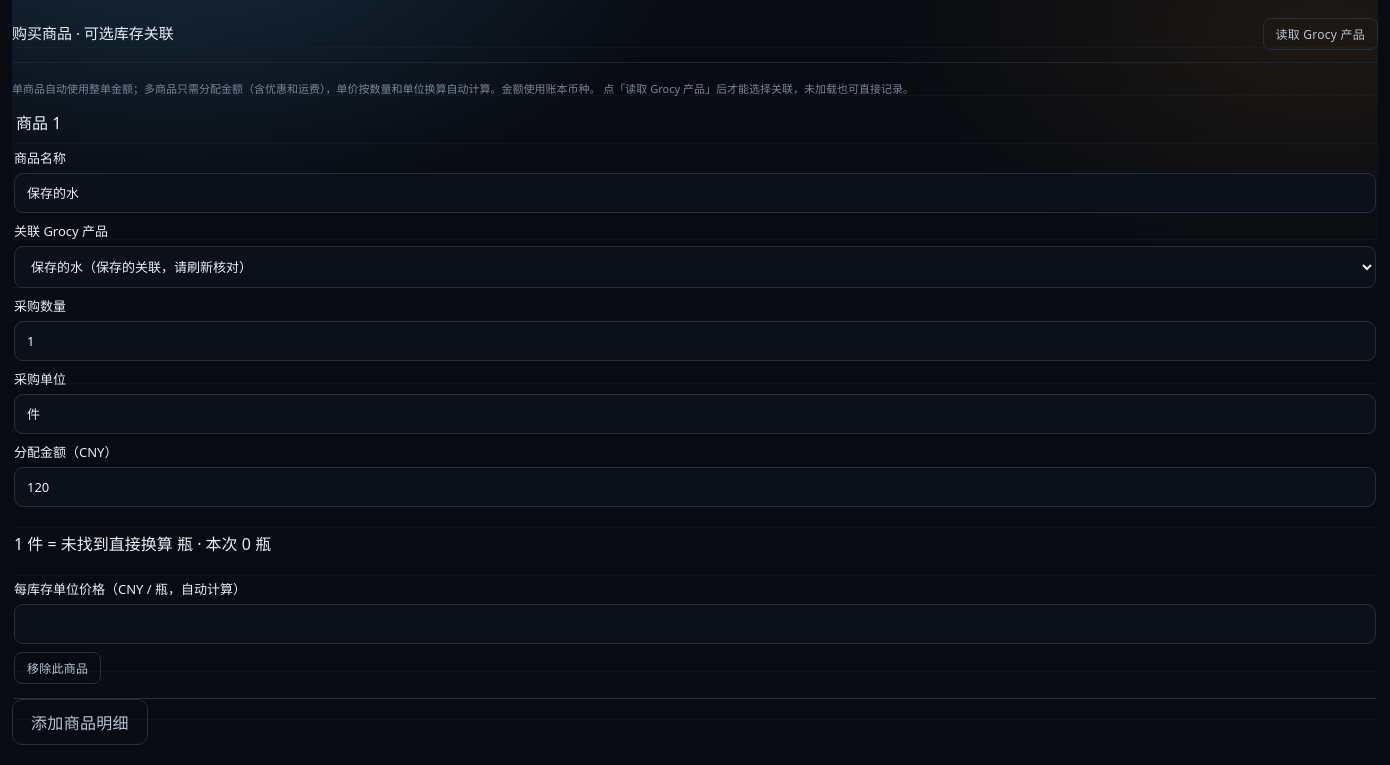
Test: 断连仍可取消关联并编辑普通商品
Click the button "读取 Grocy 产品" at (1320, 34), box [1262,18,1378,50]
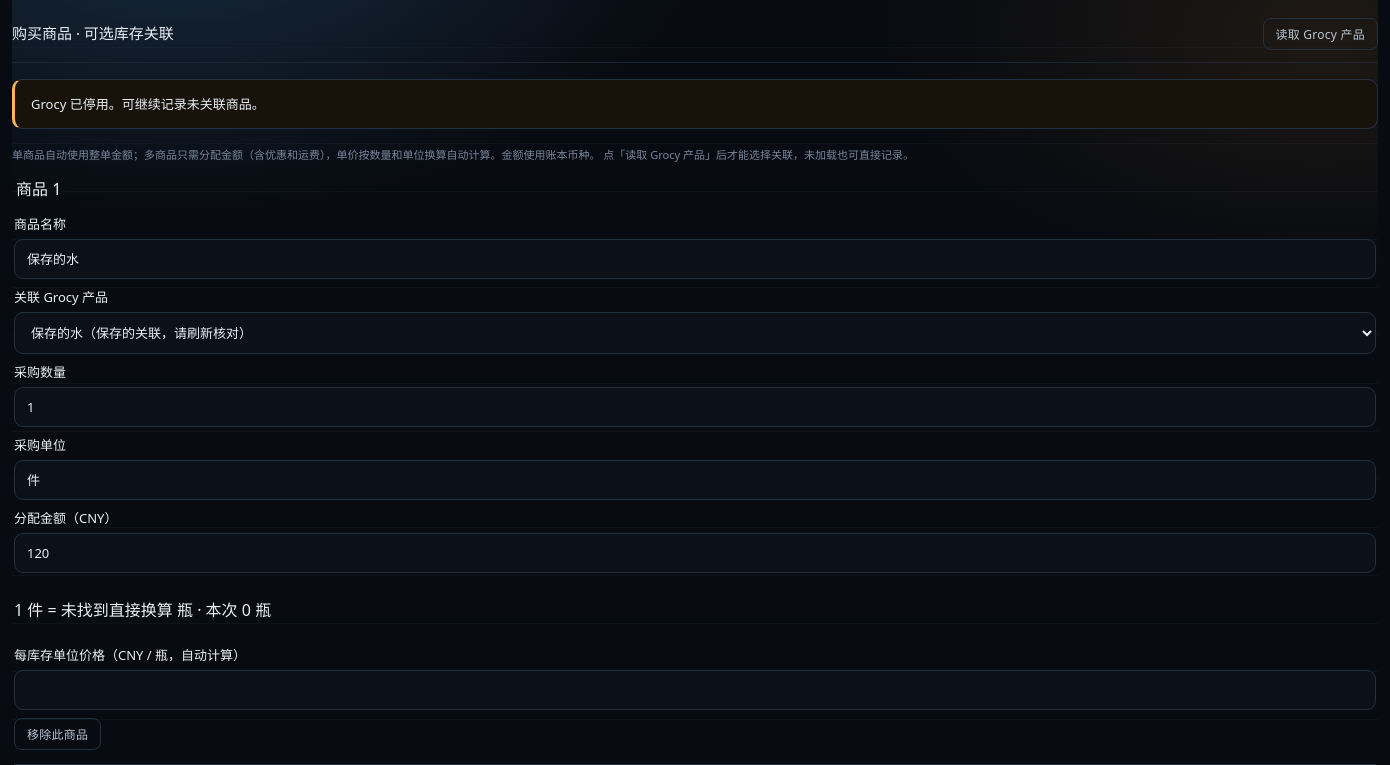
Now the text "Grocy 已停用。可继续记录未关联商品。" is shown, box [31,93,265,115]
Select "不关联" in the dropdown labelled "关联 Grocy 产品" at (695, 333), box [14,312,1376,354]
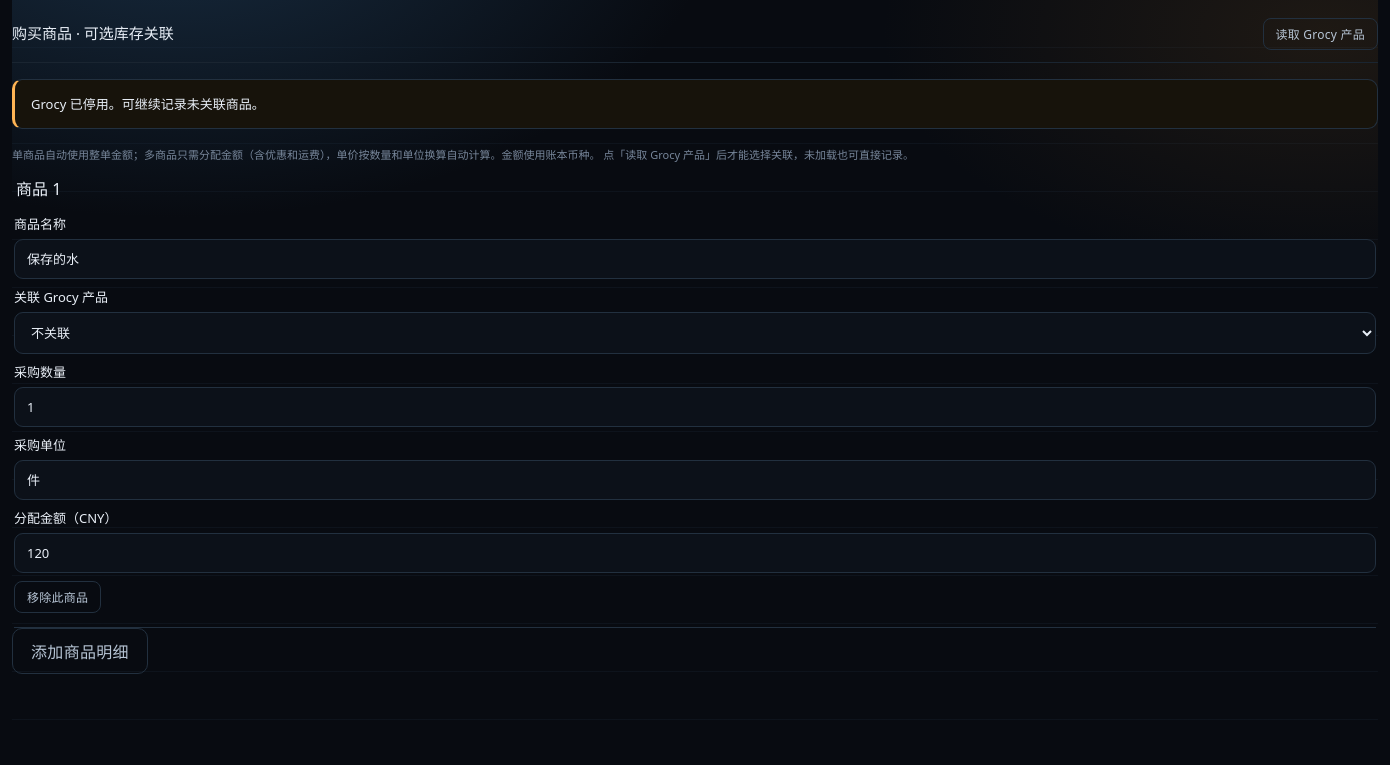
Replace the text in the field labelled "商品名称" with "普通商品" at (695, 259), box [14,239,1376,279]
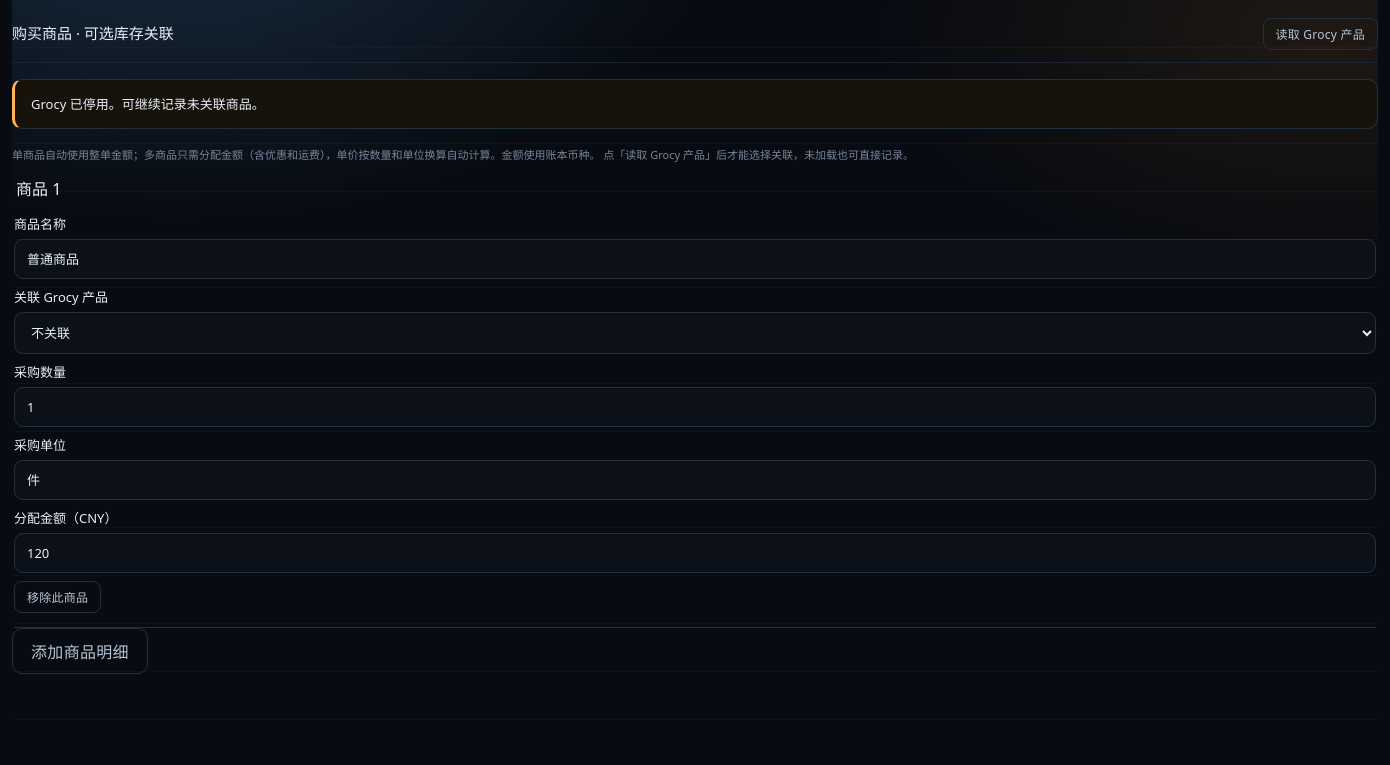
Replace the text in the field labelled "采购单位" with "袋" at (695, 480), box [14,460,1376,500]
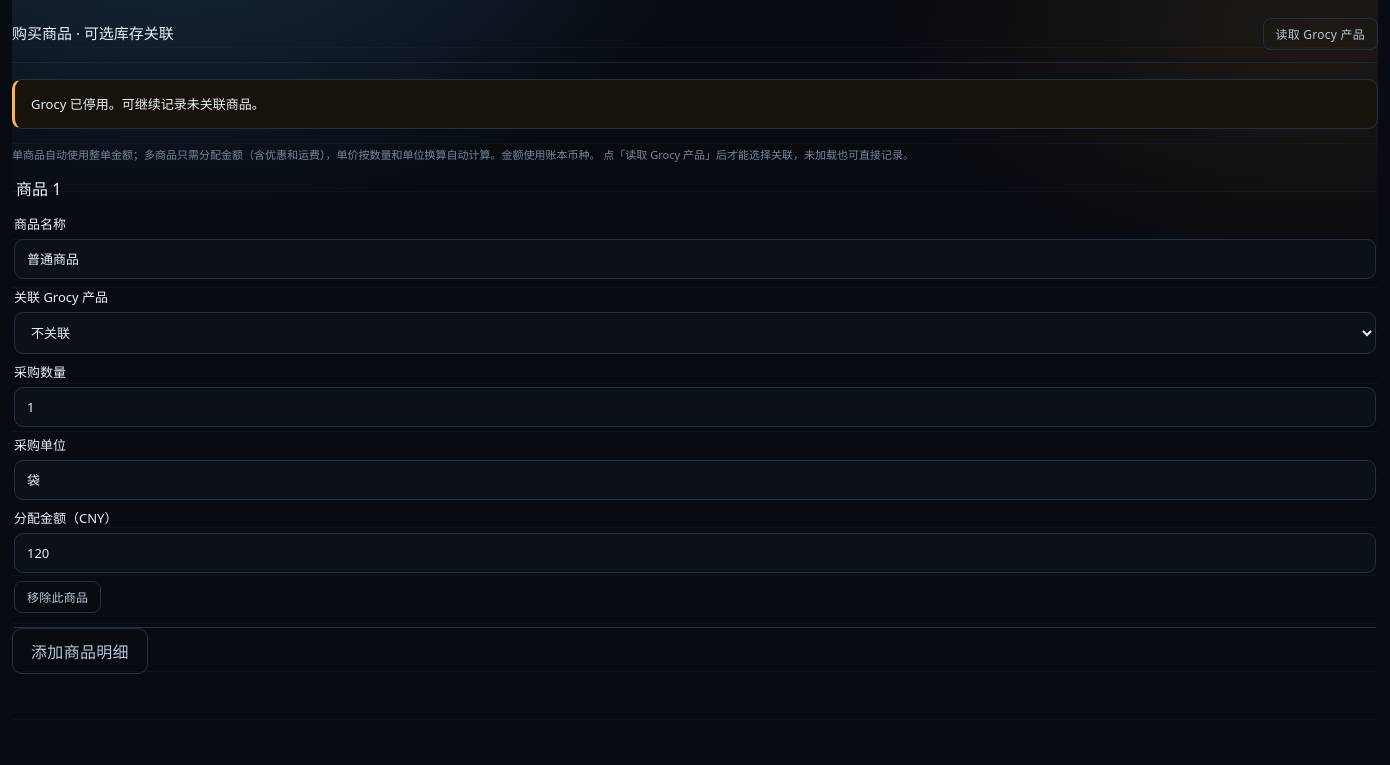
Click the button "移除此商品" at (58, 597), box [14,581,101,613]
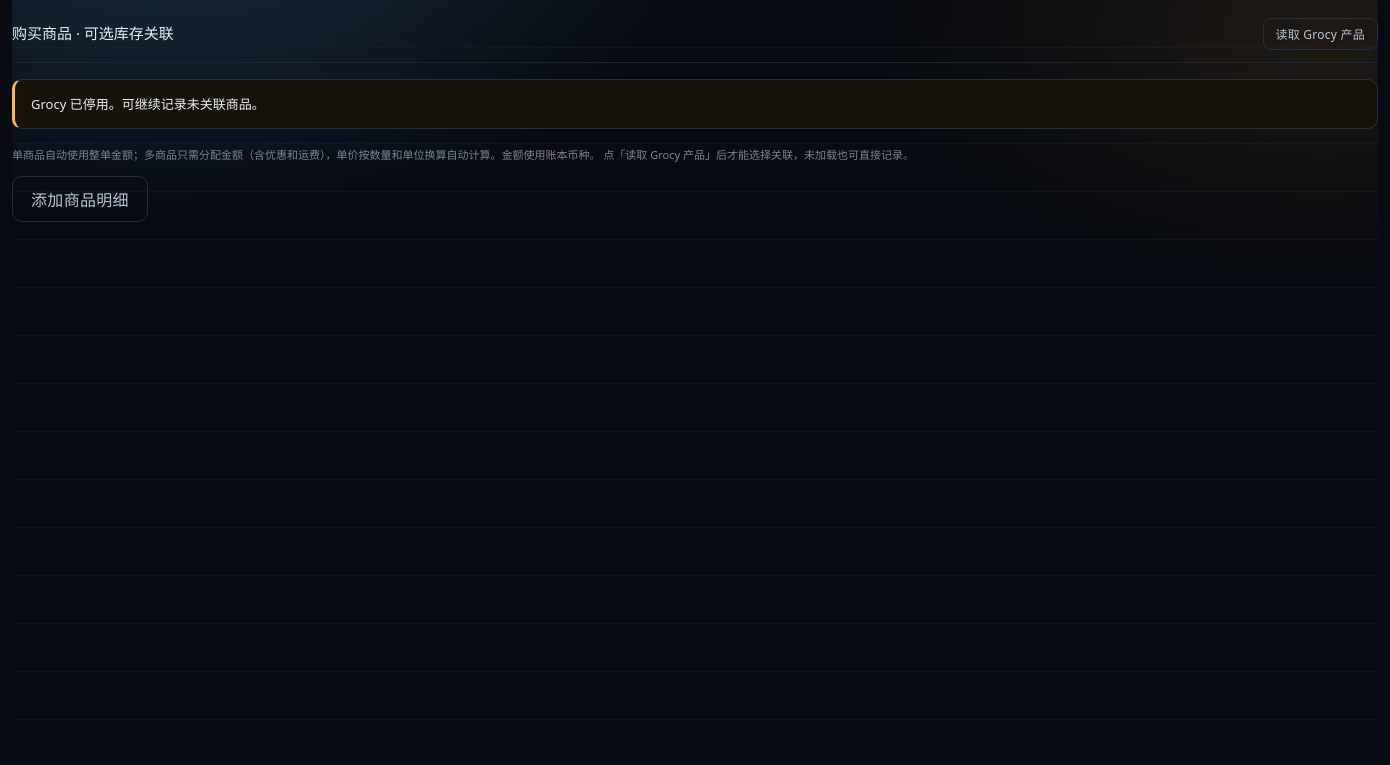
Now the label labelled "商品名称" is gone
